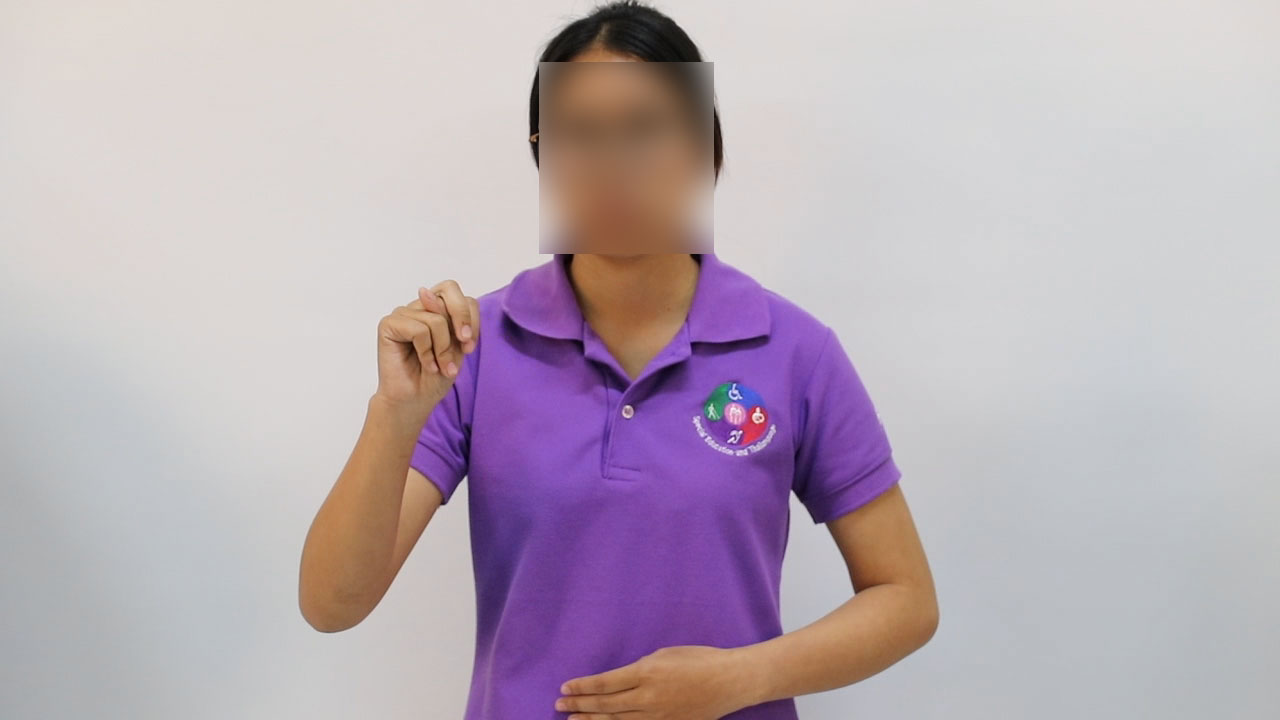nor: (356, 275, 492, 412)
